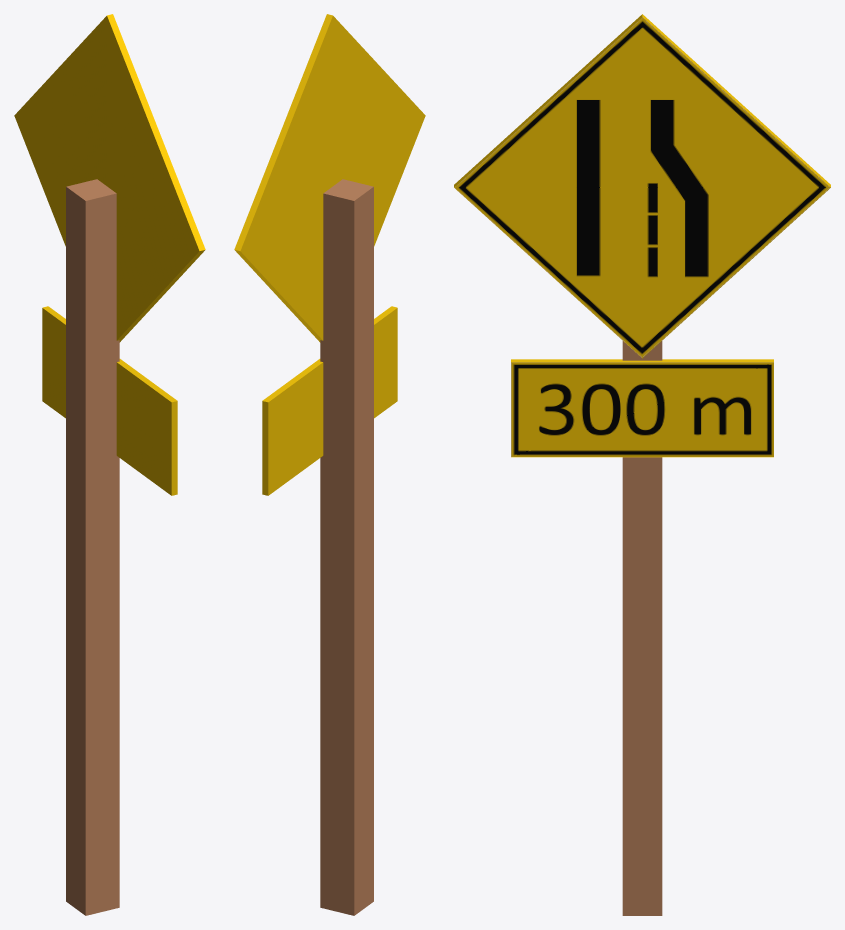
File: sign8.fbx
The picture shows the model from 3 angles, left to right: view 1: azimuth 30°, elevation 25°; view 2: azimuth 150°, elevation 25°; view 3: azimuth 270°, elevation 25°; orthographic projection.
Visible parts, largest first — view 1: Cylinder.006_Cylinder.017; view 2: Cylinder.006_Cylinder.017; view 3: Cylinder.006_Cylinder.017.
Part boxes in pixels (x1,y1,x2,y2): Cylinder.006_Cylinder.017: (14,14,205,915); Cylinder.006_Cylinder.017: (234,14,425,915); Cylinder.006_Cylinder.017: (454,14,830,915).
Bounding box in the file's own units: 17.07 × 389 × 148.
